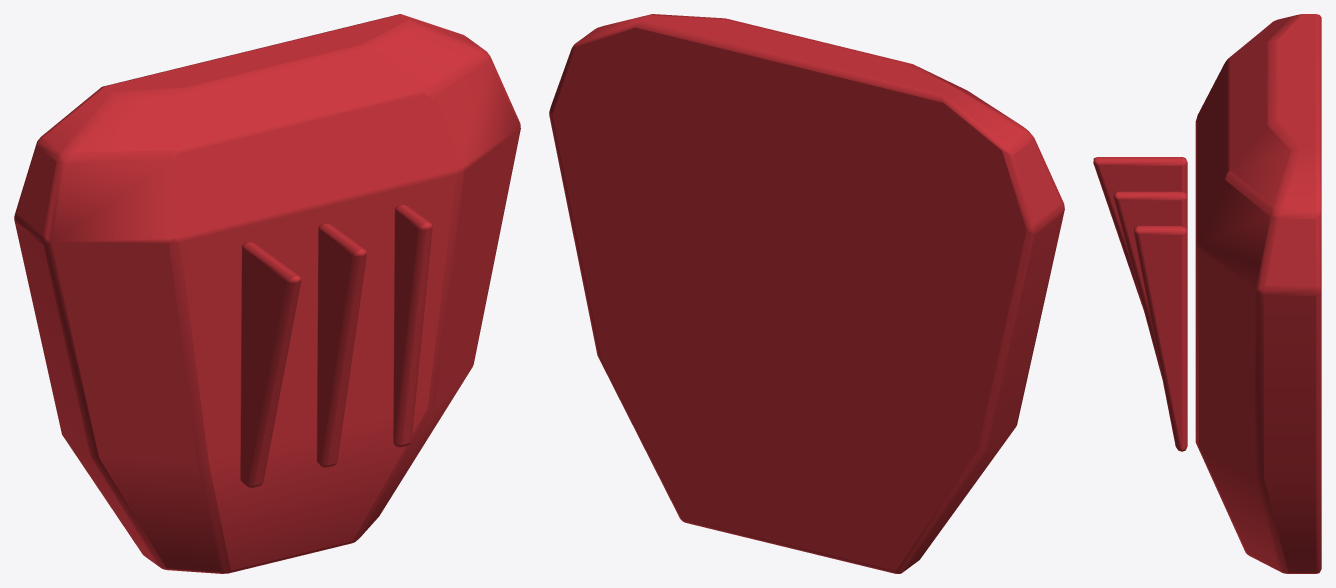
File: HeadBack_Set04_Ripjaw.fbx
3 renders of one model, left to right at view 1: azimuth 30°, elevation 25°; view 2: azimuth 150°, elevation 25°; view 3: azimuth 270°, elevation 25°, orthographic. The views are drawn at different scales.
Visible parts, largest first — view 1: HeadBack_Set04_Ripjaw; view 2: HeadBack_Set04_Ripjaw; view 3: HeadBack_Set04_Ripjaw.
Boxes of the visible parts, x1=… form: HeadBack_Set04_Ripjaw: x1=14, y1=14, x2=520, y2=573; HeadBack_Set04_Ripjaw: x1=549, y1=14, x2=1064, y2=573; HeadBack_Set04_Ripjaw: x1=1093, y1=14, x2=1321, y2=573.
Size of the model in its own units: 0.5581 by 0.54 by 0.2502.
